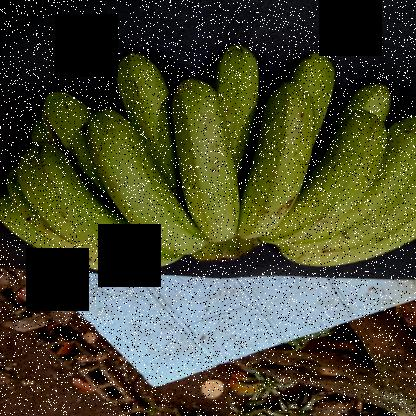freshunripe: (83, 103, 211, 259), (159, 75, 241, 246), (284, 48, 354, 143)
unripe: (9, 145, 157, 274), (277, 110, 394, 249), (226, 79, 313, 255), (323, 119, 415, 264), (204, 35, 271, 125), (29, 94, 123, 157), (105, 50, 179, 128)
